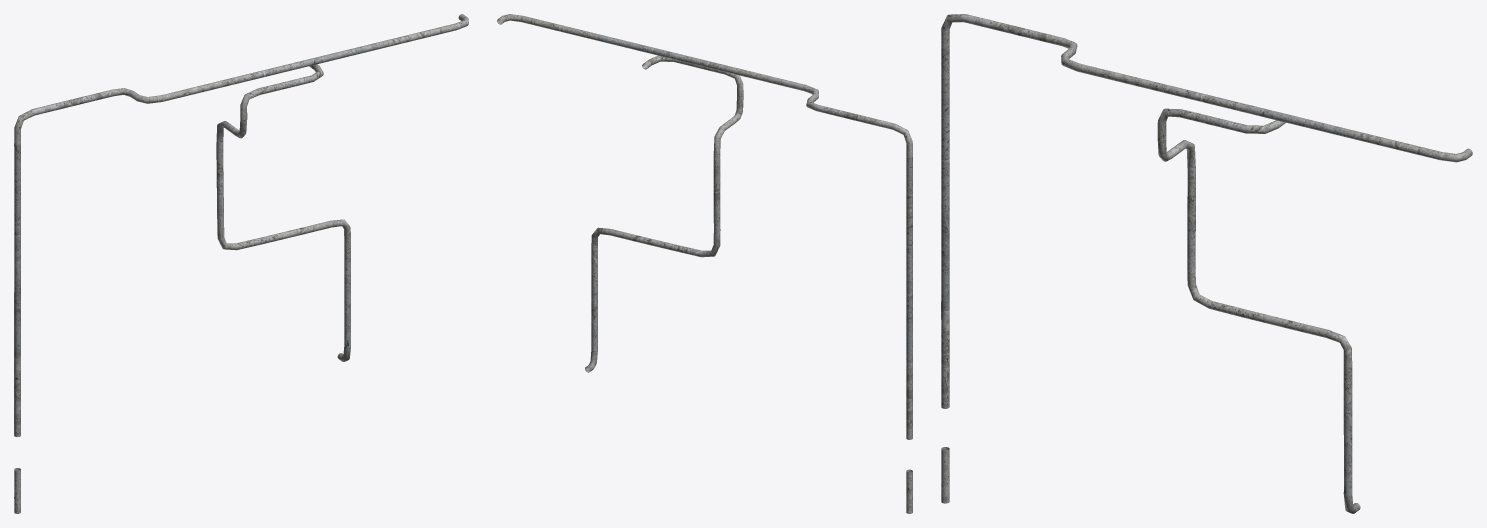
The picture shows the model from 3 angles, left to right: view 1: azimuth 30°, elevation 25°; view 2: azimuth 150°, elevation 25°; view 3: azimuth 330°, elevation 25°; orthographic projection. The views are drawn at different scales.
Visible parts, largest first — view 1: 25.003; view 2: 25.003; view 3: 25.003.
Part boxes in pixels (left/top/right/bottom): 25.003: left=14, top=14, right=468, bottom=513; 25.003: left=497, top=14, right=912, bottom=513; 25.003: left=941, top=14, right=1472, bottom=513.
Size of the model in its own units: 443 by 384 by 56.65.
